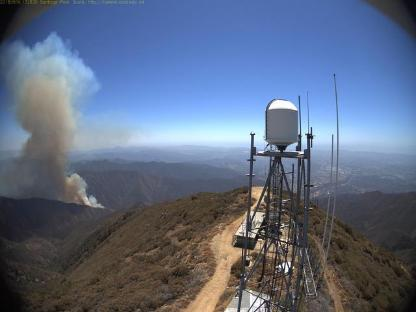smoke: (0, 31, 108, 211)
